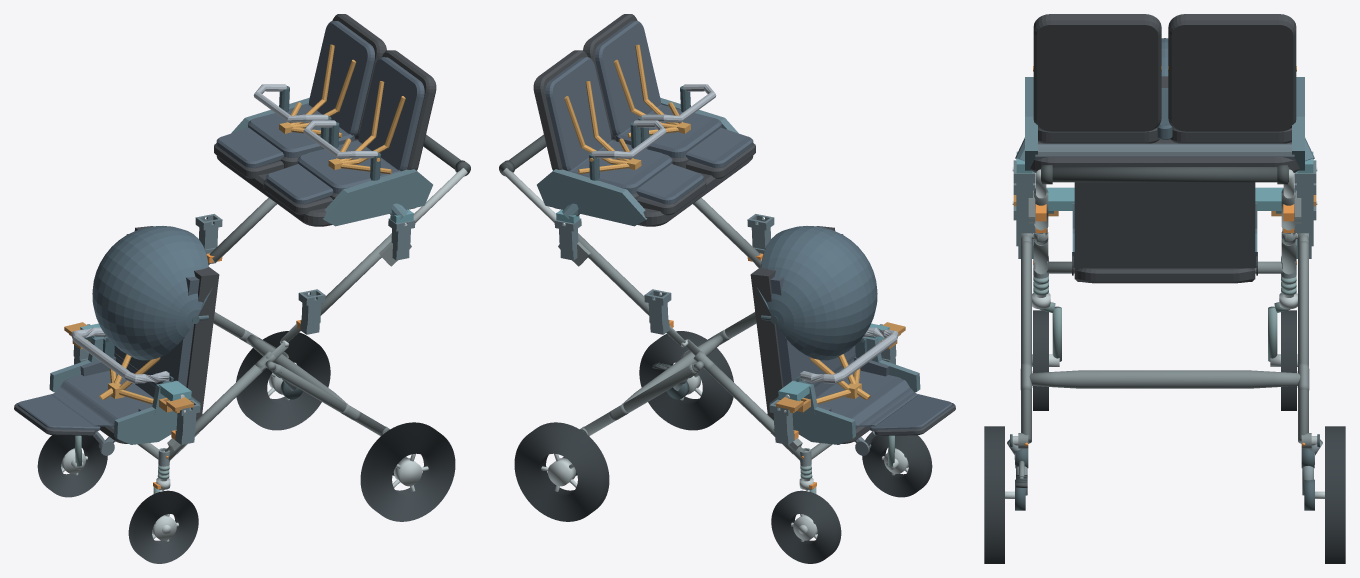
Rendered from D23_w650_state1_wheel_M.glb.
The picture shows the model from 3 angles, left to right: view 1: azimuth 30°, elevation 25°; view 2: azimuth 150°, elevation 25°; view 3: azimuth 270°, elevation 25°; orthographic projection. The views are drawn at different scales.
Visible parts, largest first — view 1: D23_Upper, D23_Lower, RL_tire.008, RR_tire.008, FL_tire.008, D23_Lower_Mount_L, FR_tire.008, V46_rear_leg_-1.009, main_lower_-1.009, main_upper_-1.009, main_upper_1.009, Universal_Cabin_Receiver_M_-1 (+6 smaller); view 2: D23_Upper, D23_Lower, RR_tire.008, RL_tire.008, FR_tire.008, D23_Lower_Mount_L, FL_tire.008, V46_rear_leg_1.009, main_lower_1.009, main_upper_1.009, main_upper_-1.009, Universal_Cabin_Receiver_M_1 (+6 smaller); view 3: D23_Upper, D23_Lower, V46_rearbar.009, round_handle.008, RL_tire.008, RR_tire.008, V46_rear_leg_1.009, V46_rear_leg_-1.009, D23_Lower_Mount_L, FL_tire.008, FR_tire.008, Universal_Cabin_Receiver_H_1 (+7 smaller).
Boxes of the visible parts, box(x1,y1,x2,y2) form: D23_Upper: box(214, 14, 436, 226); D23_Lower: box(14, 226, 219, 455); RL_tire.008: box(360, 422, 455, 521); RR_tire.008: box(236, 331, 330, 430); FL_tire.008: box(128, 490, 198, 563); D23_Lower_Mount_L: box(49, 323, 200, 444); FR_tire.008: box(37, 435, 107, 497); V46_rear_leg_-1.009: box(273, 364, 386, 435); main_lower_-1.009: box(165, 364, 265, 460); main_upper_-1.009: box(320, 233, 391, 315); main_upper_1.009: box(209, 197, 276, 262); Universal_Cabin_Receiver_M_-1: box(298, 289, 325, 334); D23_Upper: box(533, 14, 755, 226); D23_Lower: box(750, 226, 955, 455); RR_tire.008: box(514, 422, 609, 521); RL_tire.008: box(639, 331, 733, 430); FR_tire.008: box(771, 490, 841, 563); D23_Lower_Mount_L: box(769, 323, 920, 444); FL_tire.008: box(862, 435, 932, 497); V46_rear_leg_1.009: box(583, 364, 696, 435); main_lower_1.009: box(704, 364, 804, 460); main_upper_1.009: box(578, 233, 649, 315); main_upper_-1.009: box(693, 197, 760, 262); Universal_Cabin_Receiver_M_1: box(644, 289, 671, 334); D23_Upper: box(1025, 14, 1304, 172); D23_Lower: box(1072, 38, 1257, 283); V46_rearbar.009: box(1029, 370, 1300, 388); round_handle.008: box(1041, 167, 1288, 182); RL_tire.008: box(984, 426, 1004, 563); RR_tire.008: box(1325, 426, 1345, 563); V46_rear_leg_1.009: box(1298, 241, 1308, 443); V46_rear_leg_-1.009: box(1021, 241, 1031, 443); D23_Lower_Mount_L: box(1046, 187, 1283, 267); FL_tire.008: box(1033, 310, 1048, 410); FR_tire.008: box(1281, 310, 1296, 410); Universal_Cabin_Receiver_H_1: box(1294, 160, 1316, 221).
Bounding box in the file's own units: 1.36 × 1.37 × 0.7871.
